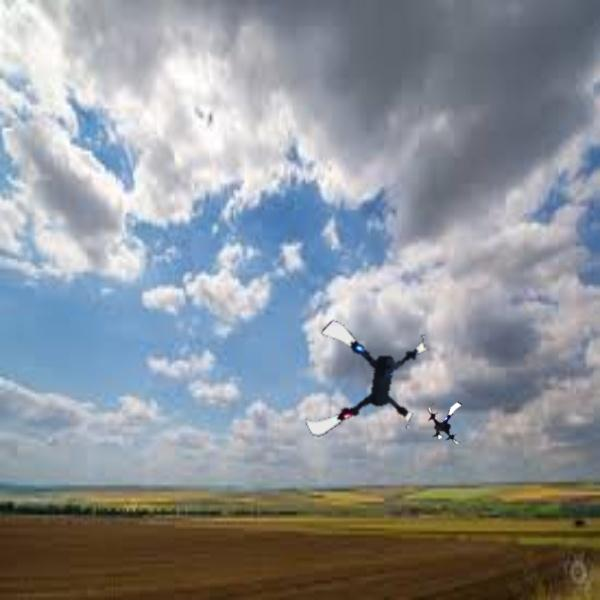drone: (302, 316, 434, 448), (425, 398, 477, 450)
